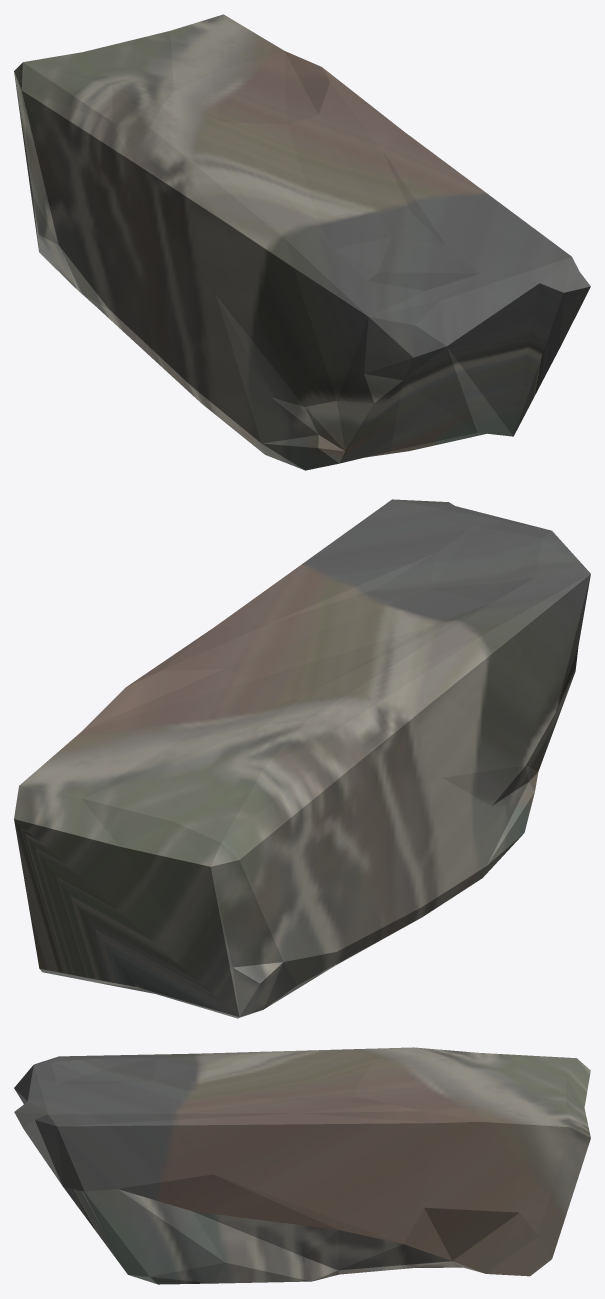
File: Bricks_C.fbx
3 renders of one model, top to bottom at view 1: azimuth 30°, elevation 25°; view 2: azimuth 150°, elevation 25°; view 3: azimuth 270°, elevation 25°, orthographic. The views are drawn at different scales.
Parts seen in each view (by area): view 1: Bricks_C; view 2: Bricks_C; view 3: Bricks_C.
Boxes of the visible parts, box(x1,y1,x2,y2) form: Bricks_C: box(14, 14, 590, 470); Bricks_C: box(14, 499, 590, 1018); Bricks_C: box(14, 1047, 590, 1284).
Bounding box in the file's own units: 0.3884 × 0.4234 × 1.23.
